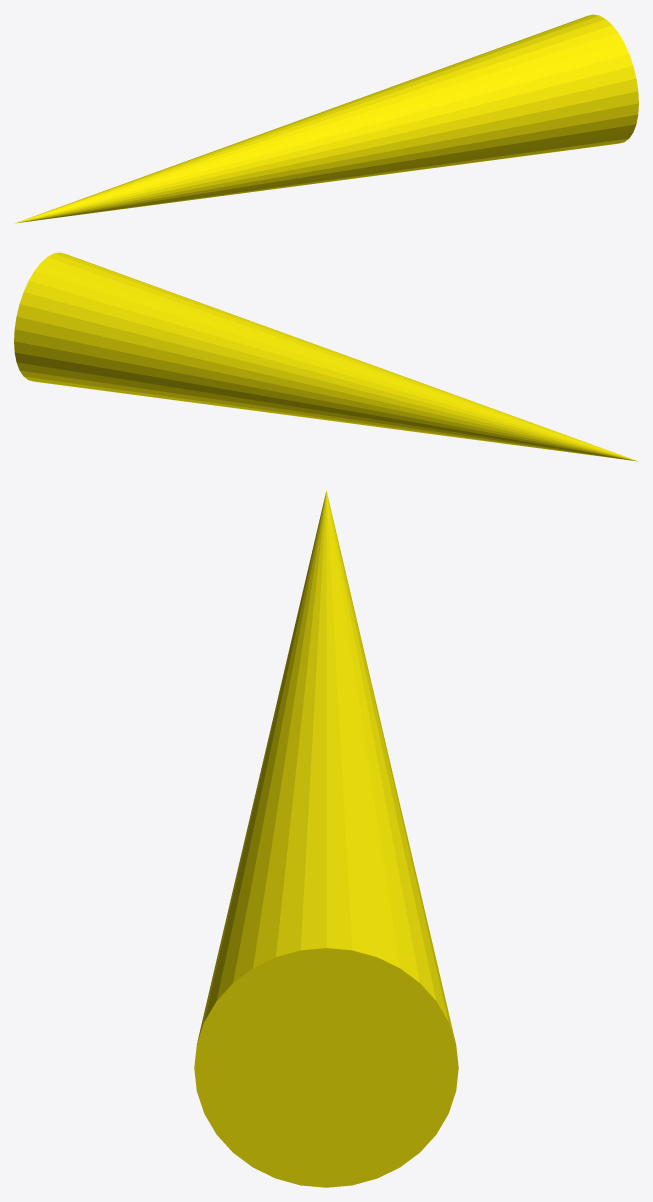
The model's file is enemyEye.fbx.
3 views of the same model, one above another, from view 1: azimuth 30°, elevation 25°; view 2: azimuth 150°, elevation 25°; view 3: azimuth 270°, elevation 25° (orthographic). The views are drawn at different scales.
Parts seen in each view (by area): view 1: Cone; view 2: Cone; view 3: Cone.
Boxes of the visible parts, x1,y1,x2,y2 form: Cone: (15,14,638,223); Cone: (14,252,637,461); Cone: (194,490,458,1187).
Bounding box in the file's own units: 1034 × 200 × 200.
